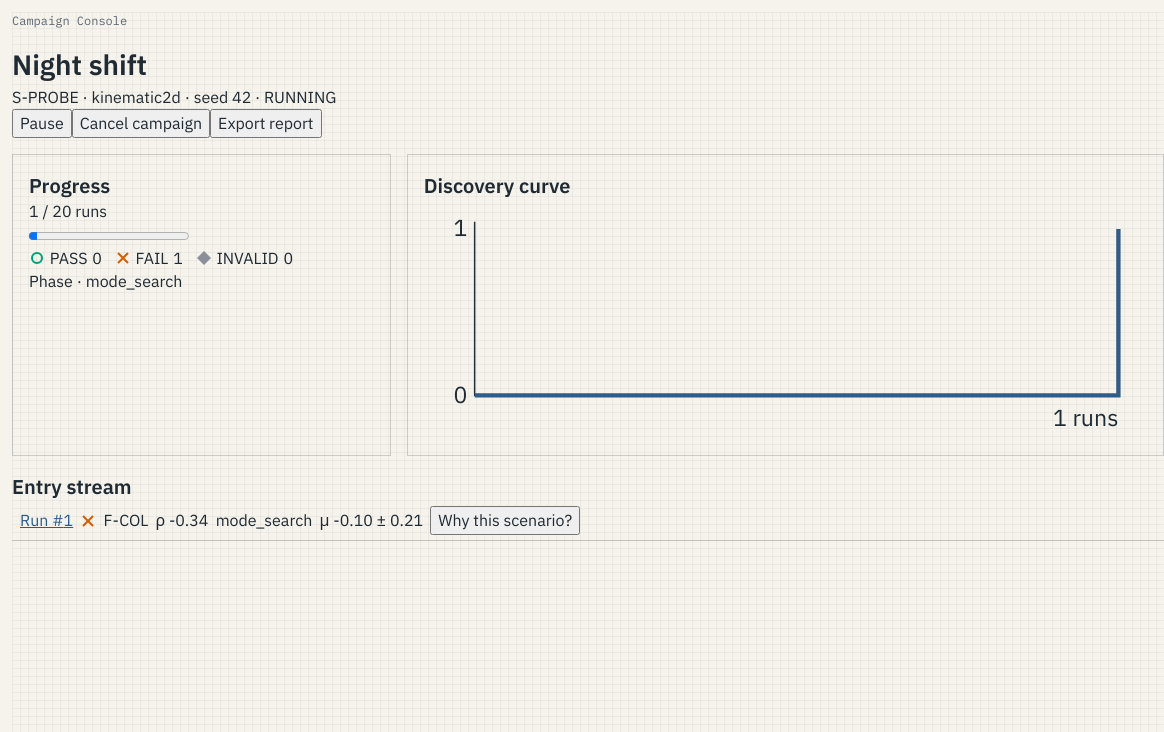
Test: waits for accepted commands and displays a conflict with refreshed status
Later steps or results of the test are not shown.
Click the button "Pause" at (42, 124), box [12,109,72,138]
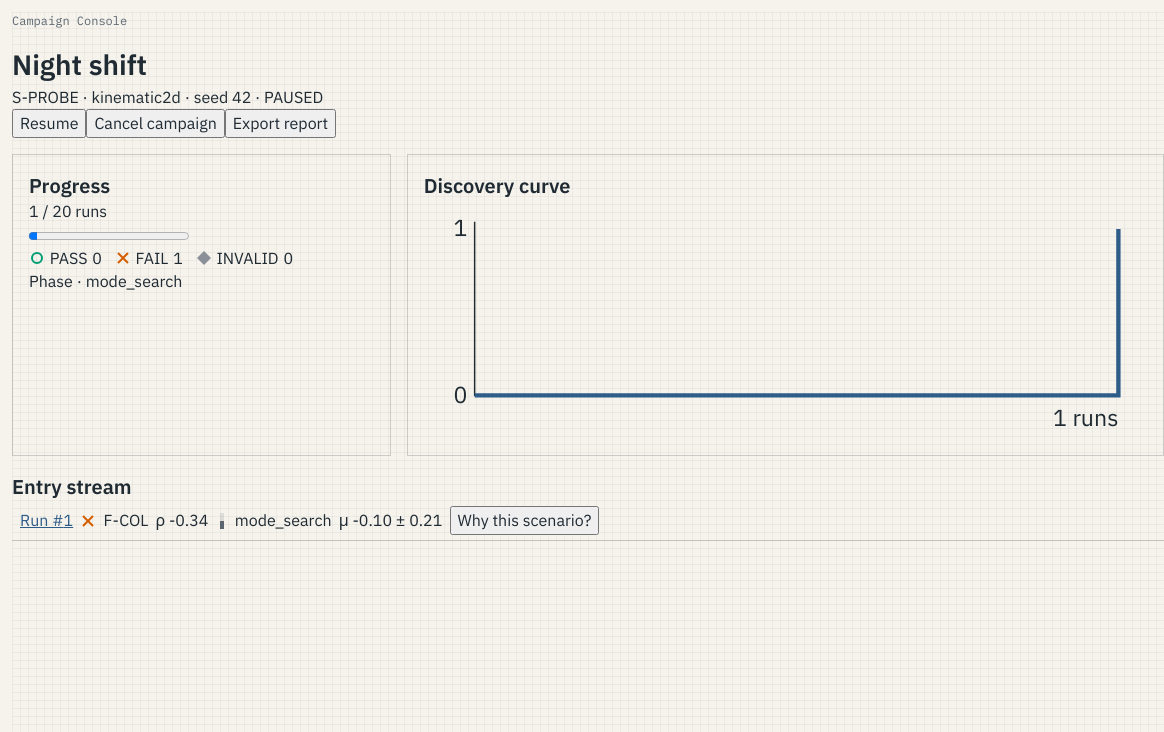
Click the button "Resume" at (49, 124), box [12,109,86,138]
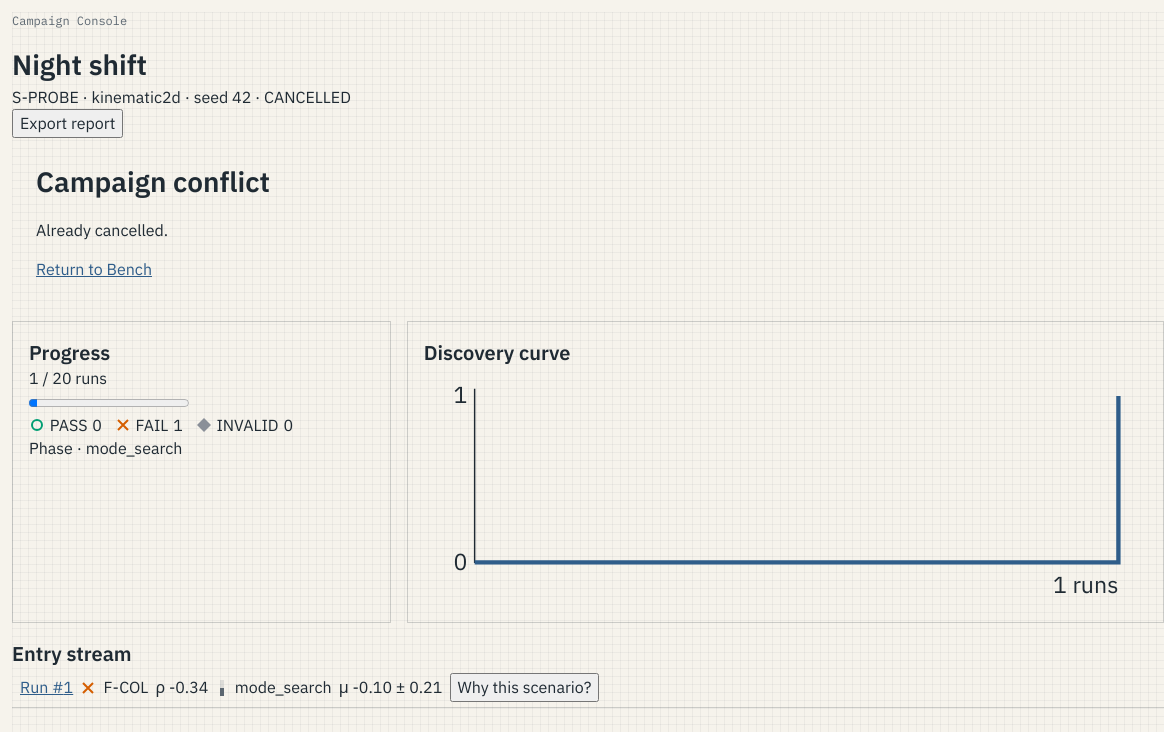
expect the text "Already cancelled." is shown: met, box [36,220,168,240]
expect the button "Resume" is gone: met
